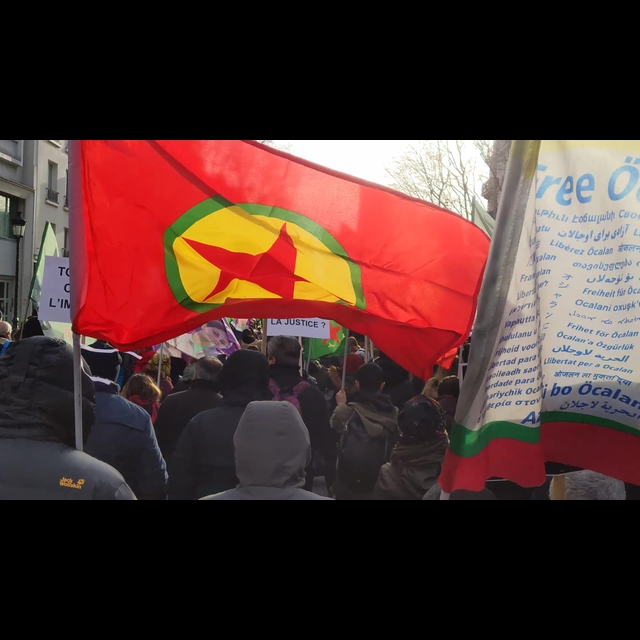PKK: (155, 185, 394, 314)
